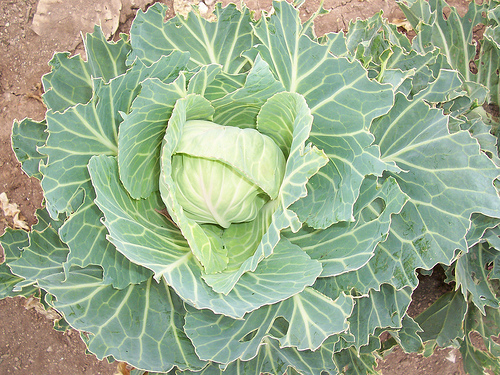cabbage: (171, 119, 285, 232)
